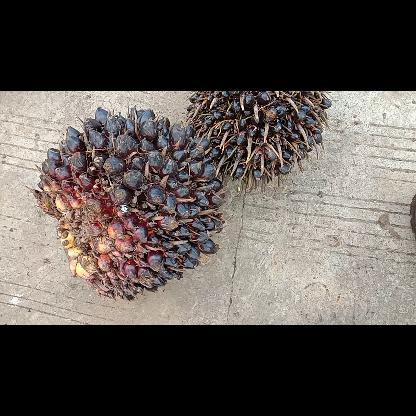TBS mentah: (28, 103, 226, 301), (184, 90, 336, 188)
